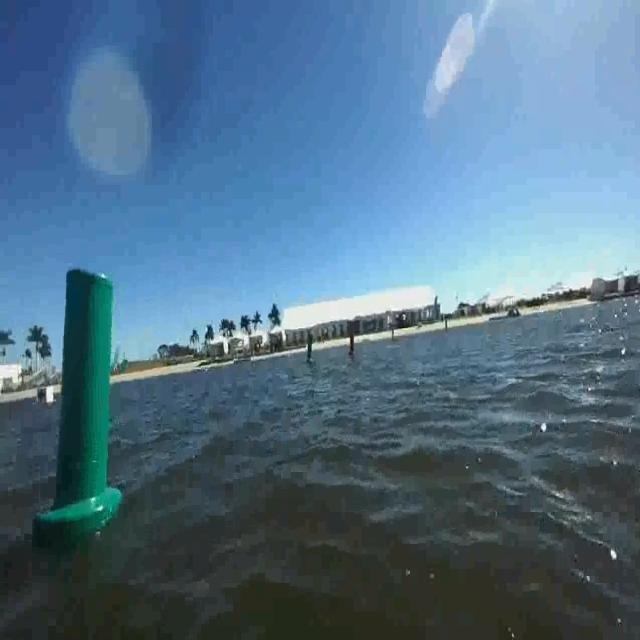green-column-buoy: (36, 271, 121, 538), (306, 332, 316, 365)
